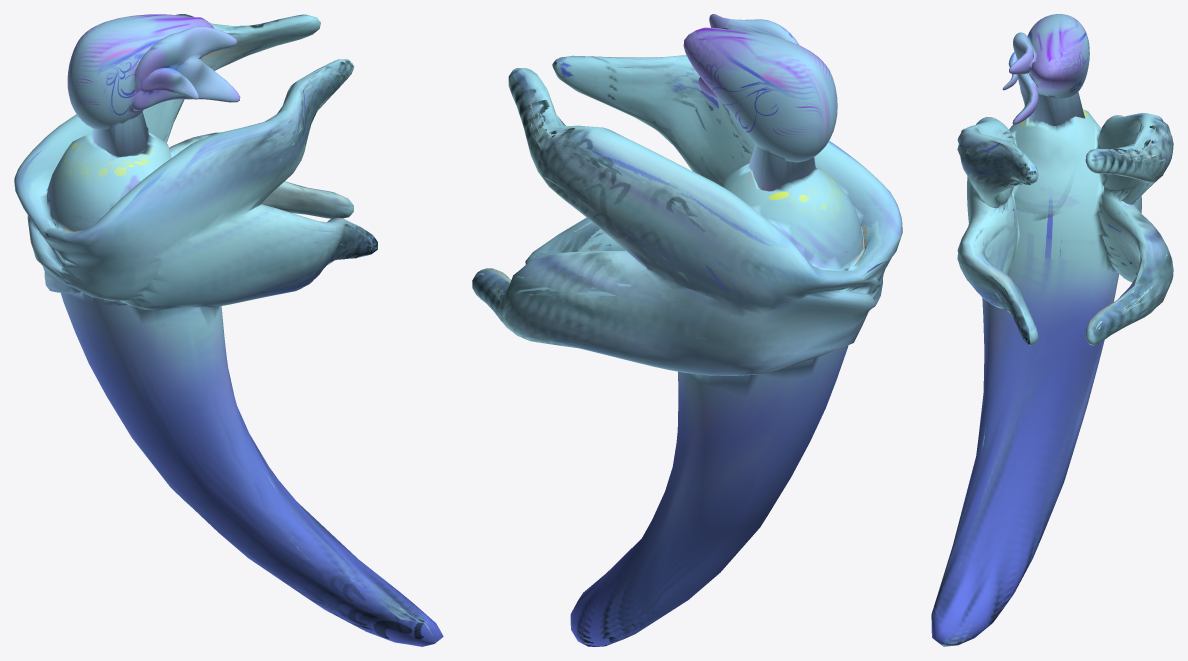
The model's file is body.fbx.
The picture shows the model from 3 angles, left to right: view 1: azimuth 30°, elevation 25°; view 2: azimuth 150°, elevation 25°; view 3: azimuth 270°, elevation 25°; orthographic projection. The views are drawn at different scales.
Parts seen in each view (by area): view 1: merged, Icosphere.008; view 2: merged, Icosphere.008; view 3: merged, Icosphere.008.
Boxes of the visible parts, x1,y1,x2,y2 form: merged: [14, 14, 443, 646]; Icosphere.008: [67, 14, 240, 156]; merged: [472, 55, 902, 646]; Icosphere.008: [683, 14, 837, 190]; merged: [931, 109, 1173, 646]; Icosphere.008: [1002, 14, 1089, 125].
Bounding box in the file's own units: 451 × 809 × 335.
2 materials, 2 textured.
